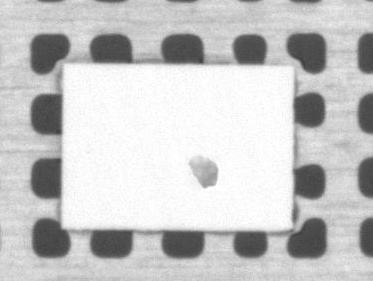DIE_INK: (243, 113, 296, 146)
